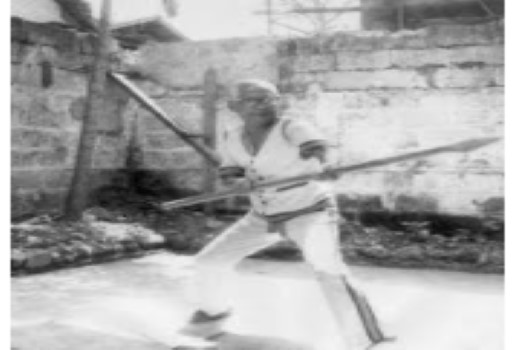baston_e: (177, 127, 472, 214), (108, 80, 229, 160)
baston_v: (107, 64, 129, 89), (487, 127, 508, 151), (155, 197, 170, 218)
